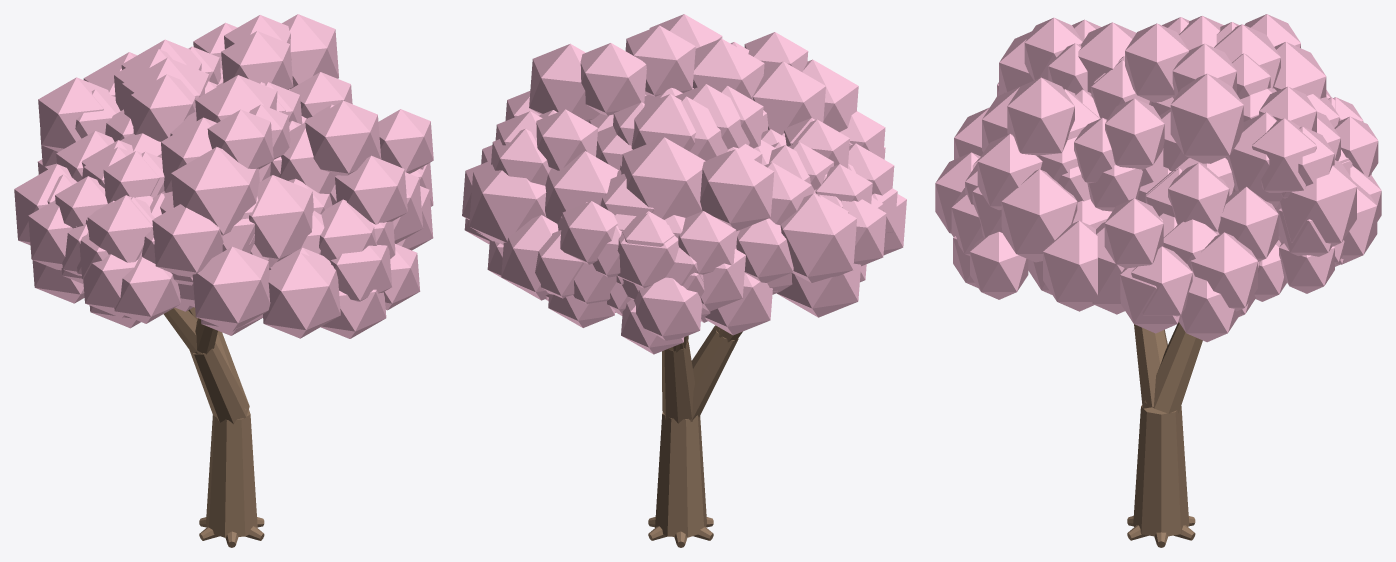
The model's file is cherry_tree.fbx.
The picture shows the model from 3 angles, left to right: view 1: azimuth 30°, elevation 25°; view 2: azimuth 150°, elevation 25°; view 3: azimuth 270°, elevation 25°; orthographic projection. The views are drawn at different scales.
Parts seen in each view (by area): view 1: Canopy, Trunk; view 2: Canopy, Trunk; view 3: Canopy, Trunk.
Boxes of the visible parts, left/top/right/bottom form: Canopy: left=14, top=14, right=433, bottom=338; Trunk: left=163, top=307, right=264, bottom=547; Canopy: left=462, top=14, right=906, bottom=354; Trunk: left=648, top=325, right=742, bottom=547; Canopy: left=935, top=14, right=1381, bottom=342; Trunk: left=1127, top=322, right=1202, bottom=547.
Size of the model in its own units: 19.66 by 23.51 by 18.24.
